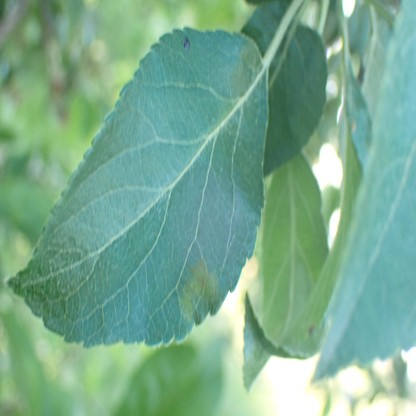powdery_mildew: (20, 248, 97, 304)
scab: (179, 264, 216, 315), (231, 42, 261, 91)
